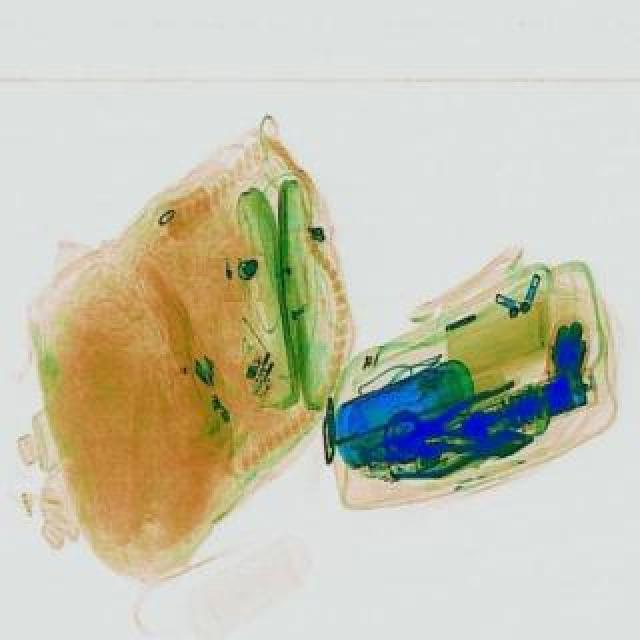wrench: (384, 378, 532, 470), (380, 410, 536, 482)
